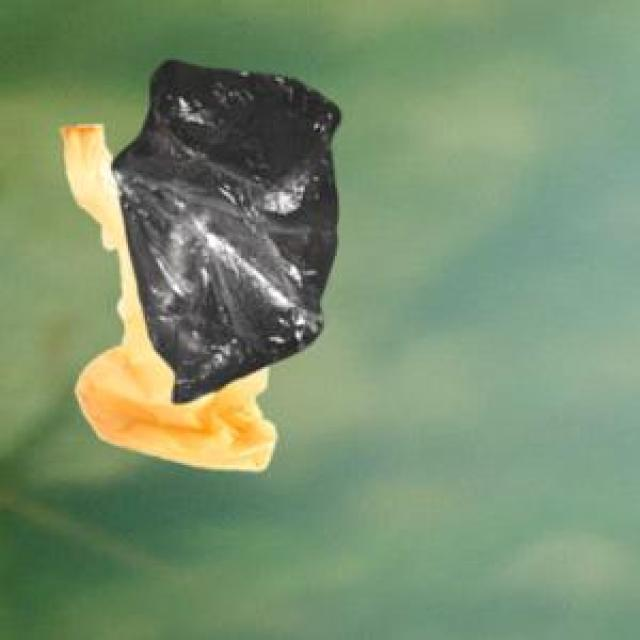waste: (63, 126, 276, 471)
